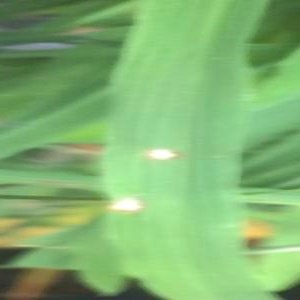Brown_Spot: (94, 191, 154, 233), (138, 129, 187, 171)
